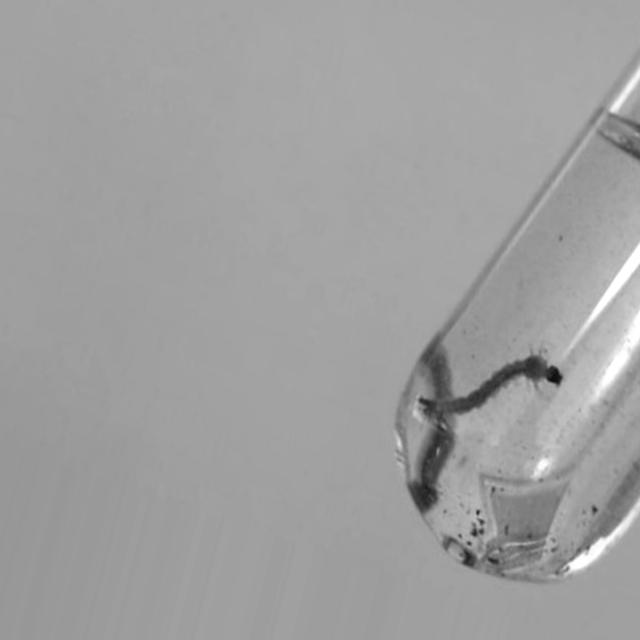larvas: (421, 346, 565, 423), (407, 356, 459, 514)
